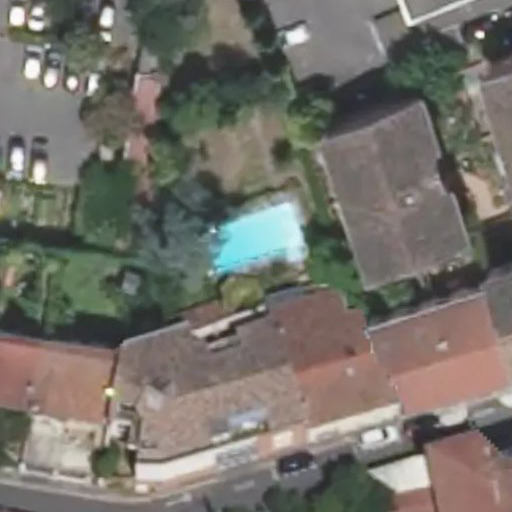pool: (196, 200, 309, 274)
